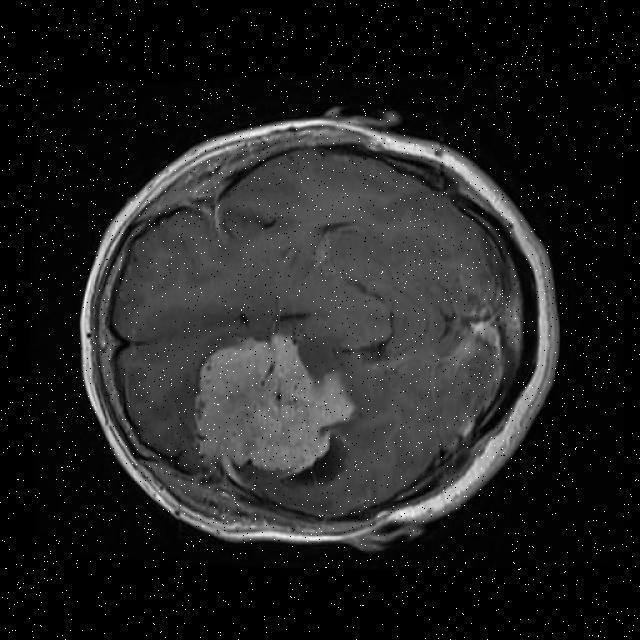Meningioma: (195, 336, 352, 474)
